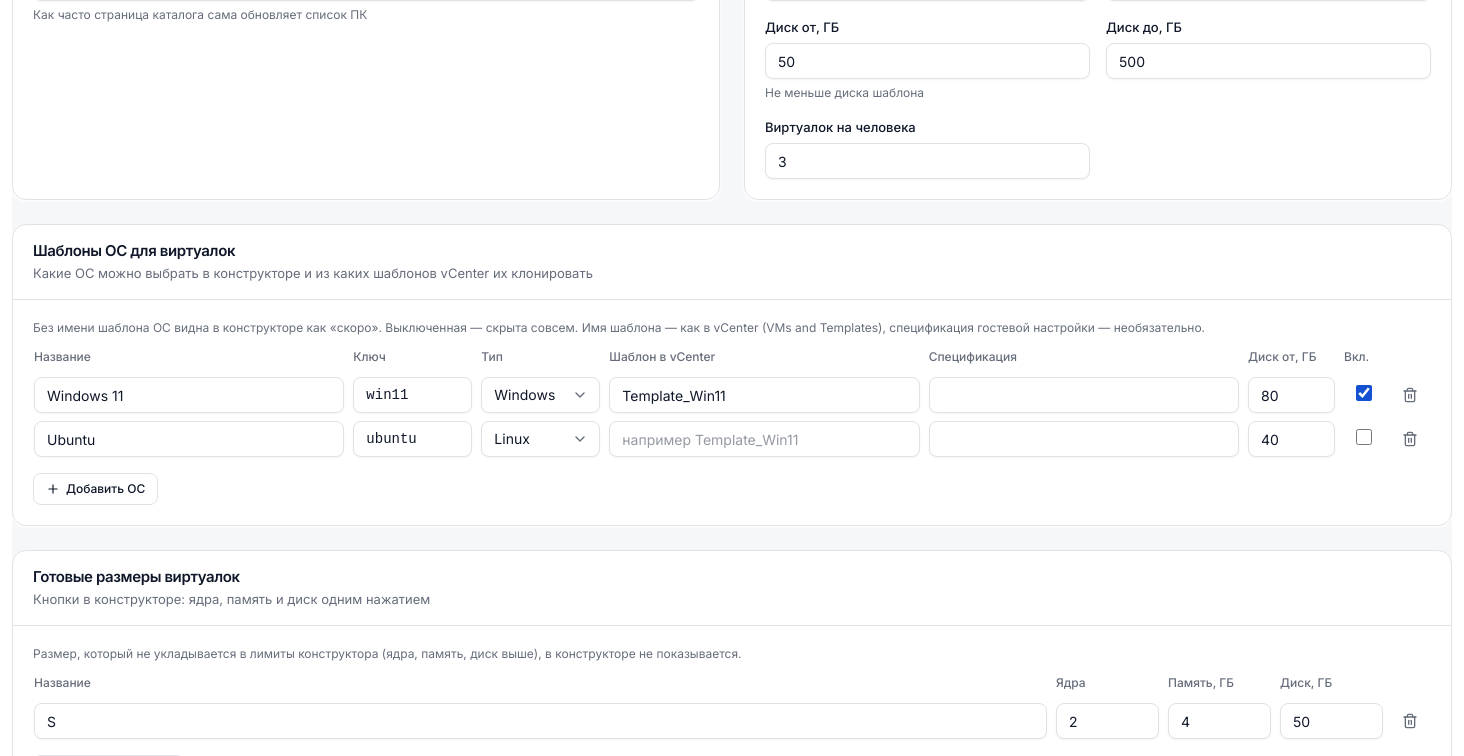
Test case: SettingsPage: сохранение шаблонов ОС › возврат шаблона к исходному значению снова блокирует «Сохранить»
(page scrolled)
Expected: the heading "Шаблоны ОС для виртуалок" is shown, [33,241,235,260]
Replace the text in the field showing "Windows 11" with "Win" at (189, 395), box [34,377,344,413]
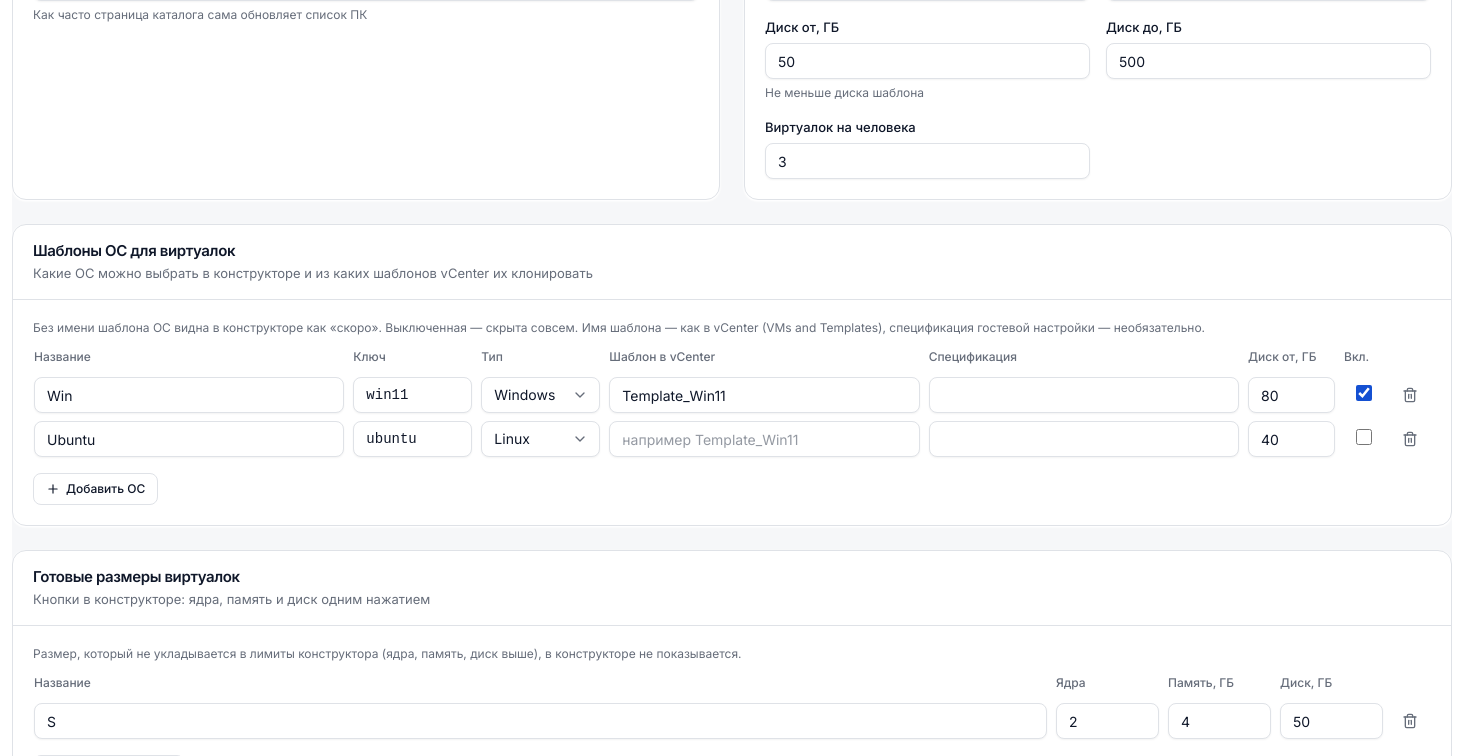
Replace the text in the field showing "Windows 11" with "Windows 11" at (189, 395), box [34,377,344,413]
(page scrolled)
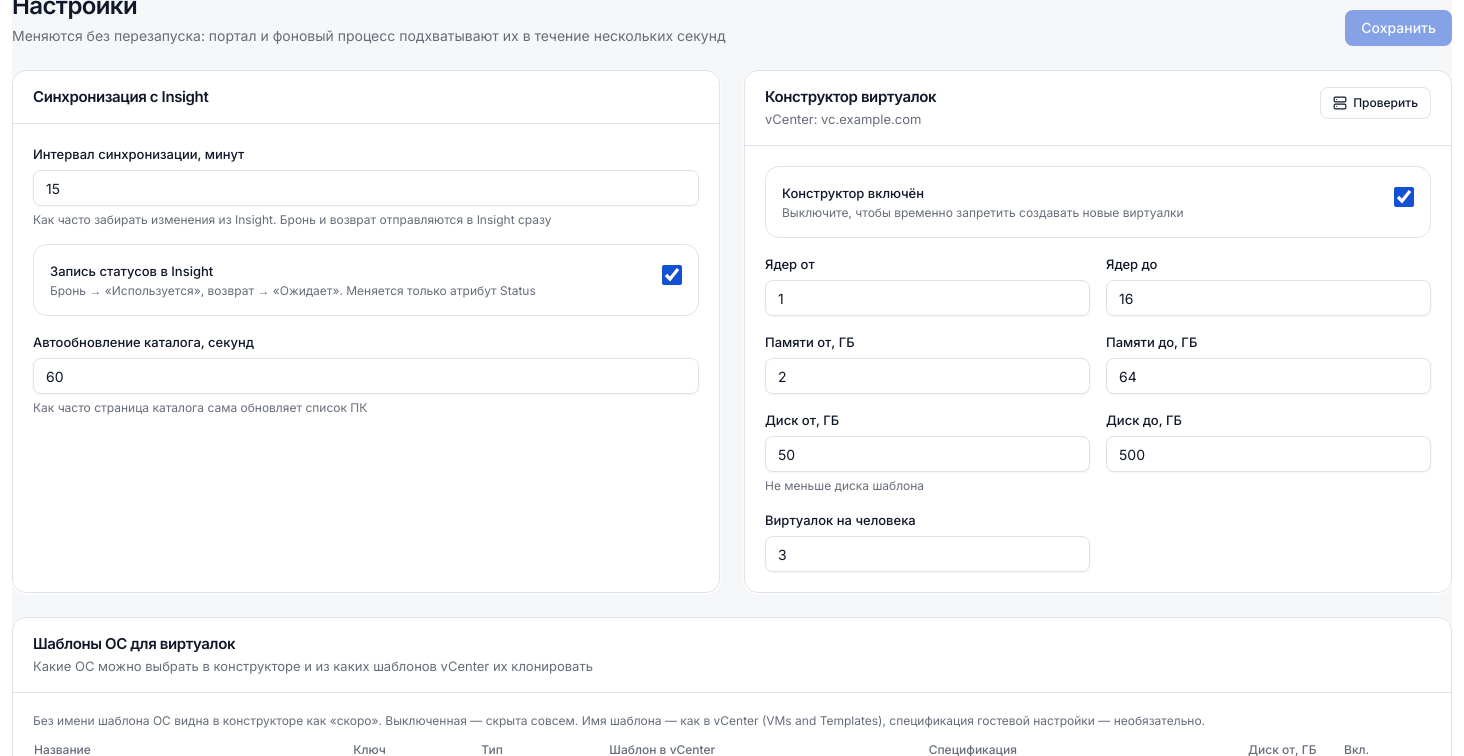
Result: the button "Сохранить" is disabled at [1345,10,1452,46]
